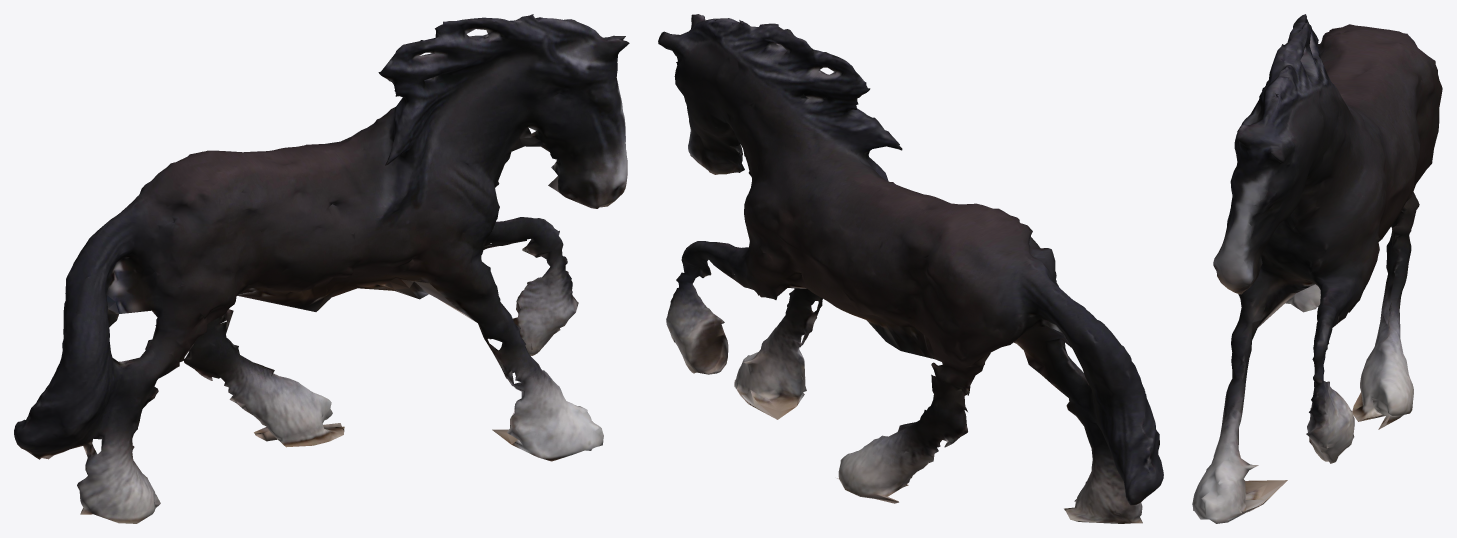
File: Textured_mesh_blackhorse.glb
3 views of the same model, side by side, from view 1: azimuth 30°, elevation 25°; view 2: azimuth 150°, elevation 25°; view 3: azimuth 270°, elevation 25° (orthographic). The views are drawn at different scales.
Bounding box in the file's own units: 1000 × 712 × 361.
Materials: 1 (1 with a texture image).
